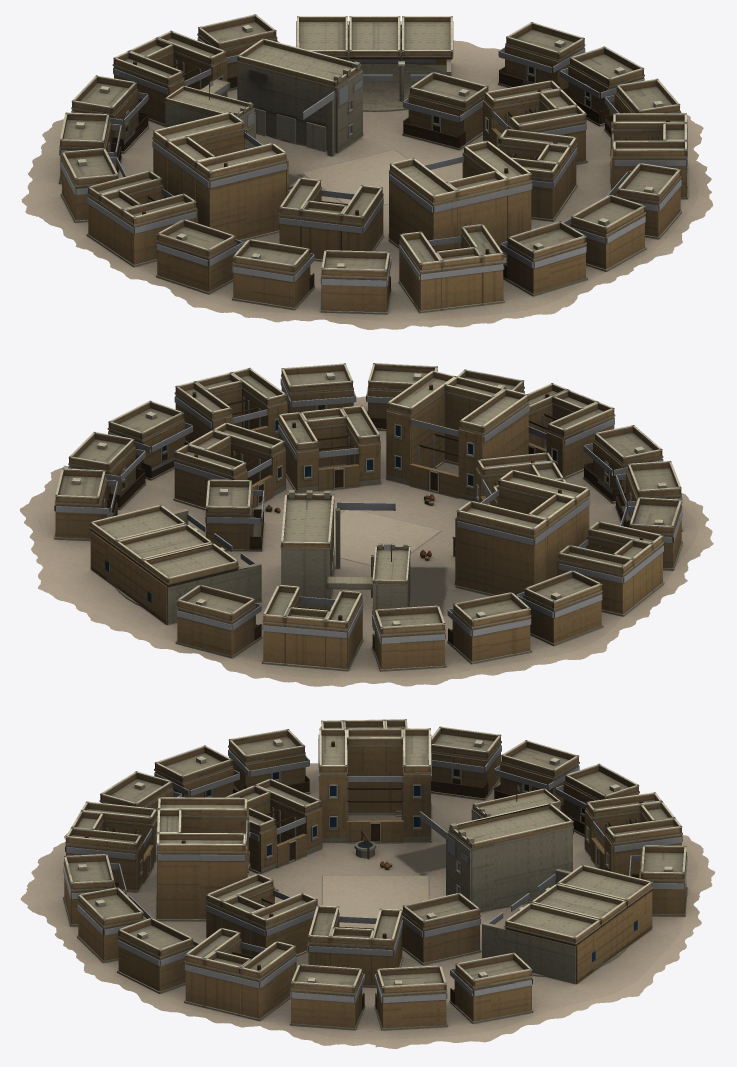
The model's file is bronze-town-big-a-israelite-6c5f79d7.glb.
3 views of the same model, one above another, from view 1: azimuth 30°, elevation 25°; view 2: azimuth 150°, elevation 25°; view 3: azimuth 270°, elevation 25° (orthographic).
Parts seen in each view (by area): view 1: LOD0; view 2: LOD0; view 3: LOD0.
Boxes of the visible parts, left/top/right/bottom form: LOD0: left=21, top=14, right=712, bottom=329; LOD0: left=20, top=363, right=713, bottom=686; LOD0: left=20, top=719, right=715, bottom=1048.
Size of what is drawn, in the model's own units: 7.94 by 0.9865 by 8.04.
3 materials, 3 textured.
